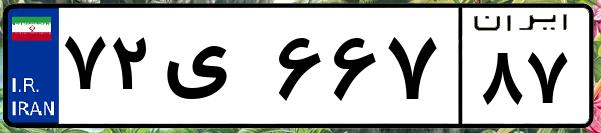2: (110, 28, 158, 98)
6: (270, 28, 330, 110), (330, 28, 385, 110)
7: (385, 28, 445, 110), (57, 26, 110, 100), (525, 38, 570, 115)
8: (475, 38, 525, 113)
ی: (158, 20, 270, 120)
